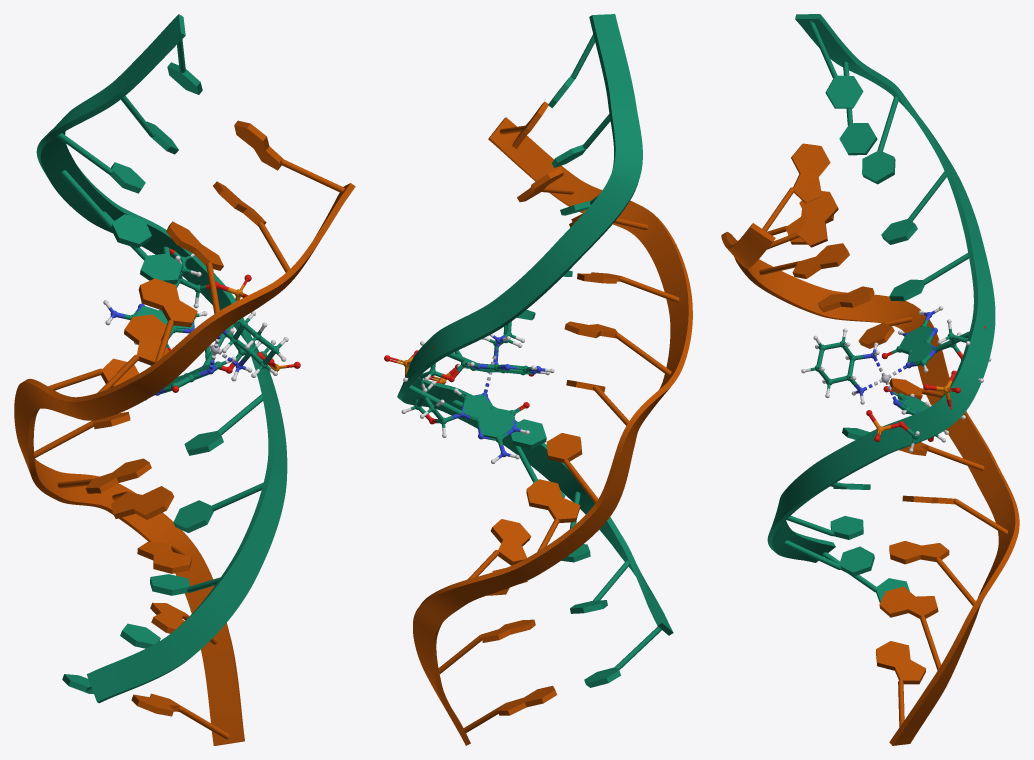
Rendered from oxaliplatin-dna-mix.glb.
3 views of the same model, side by side, from view 1: azimuth 30°, elevation 25°; view 2: azimuth 150°, elevation 25°; view 3: azimuth 270°, elevation 25° (orthographic). The views are drawn at different scales.
Size of the model in its own units: 19.15 by 55.76 by 21.77.
